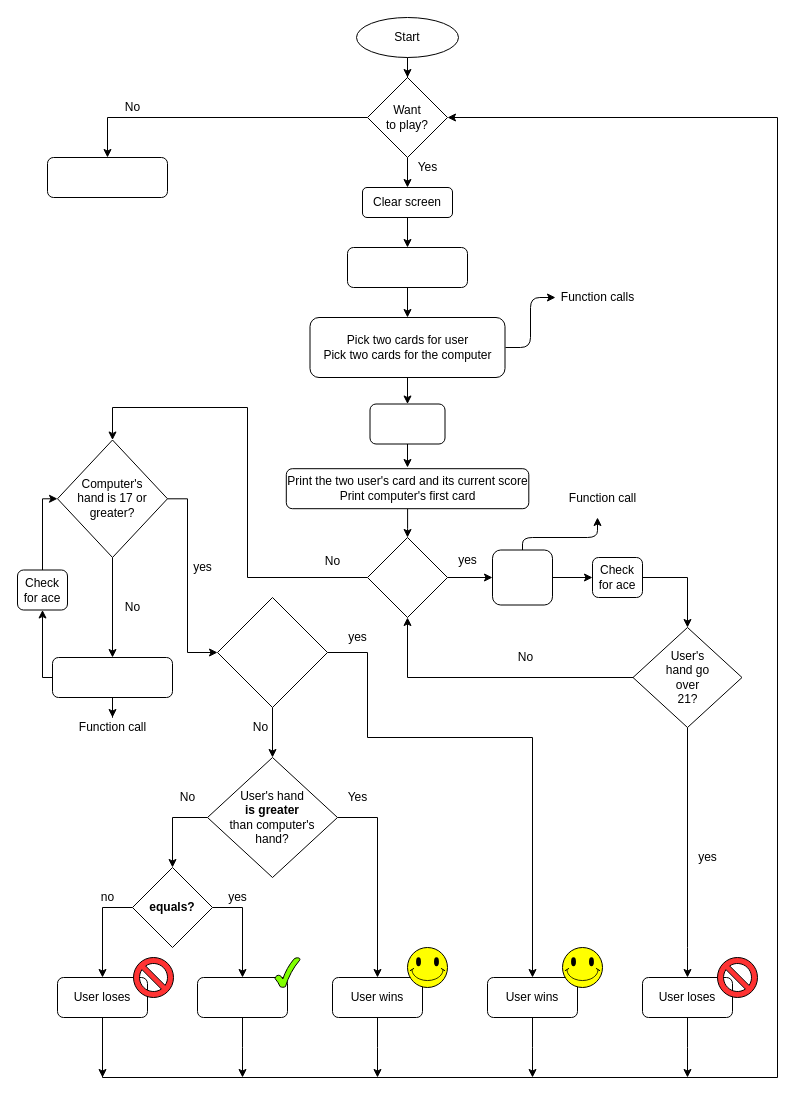
The diagram is 803 pixels wide and 1103 high, and some of its shapes have lost their labels. Here are the shapes that lost their labels. From the top down, the box of each, then its label:
(46, 156, 168, 198): Exit
(346, 246, 468, 288): Show logo
(369, 403, 445, 444): Check for blackjacks
(366, 536, 448, 618): Want another card?
(492, 549, 552, 605): Pick one card for user
(216, 596, 328, 708): Computer's hand go over 21?
(52, 656, 172, 698): Pick one card for computer
(196, 976, 288, 1018): Draw
